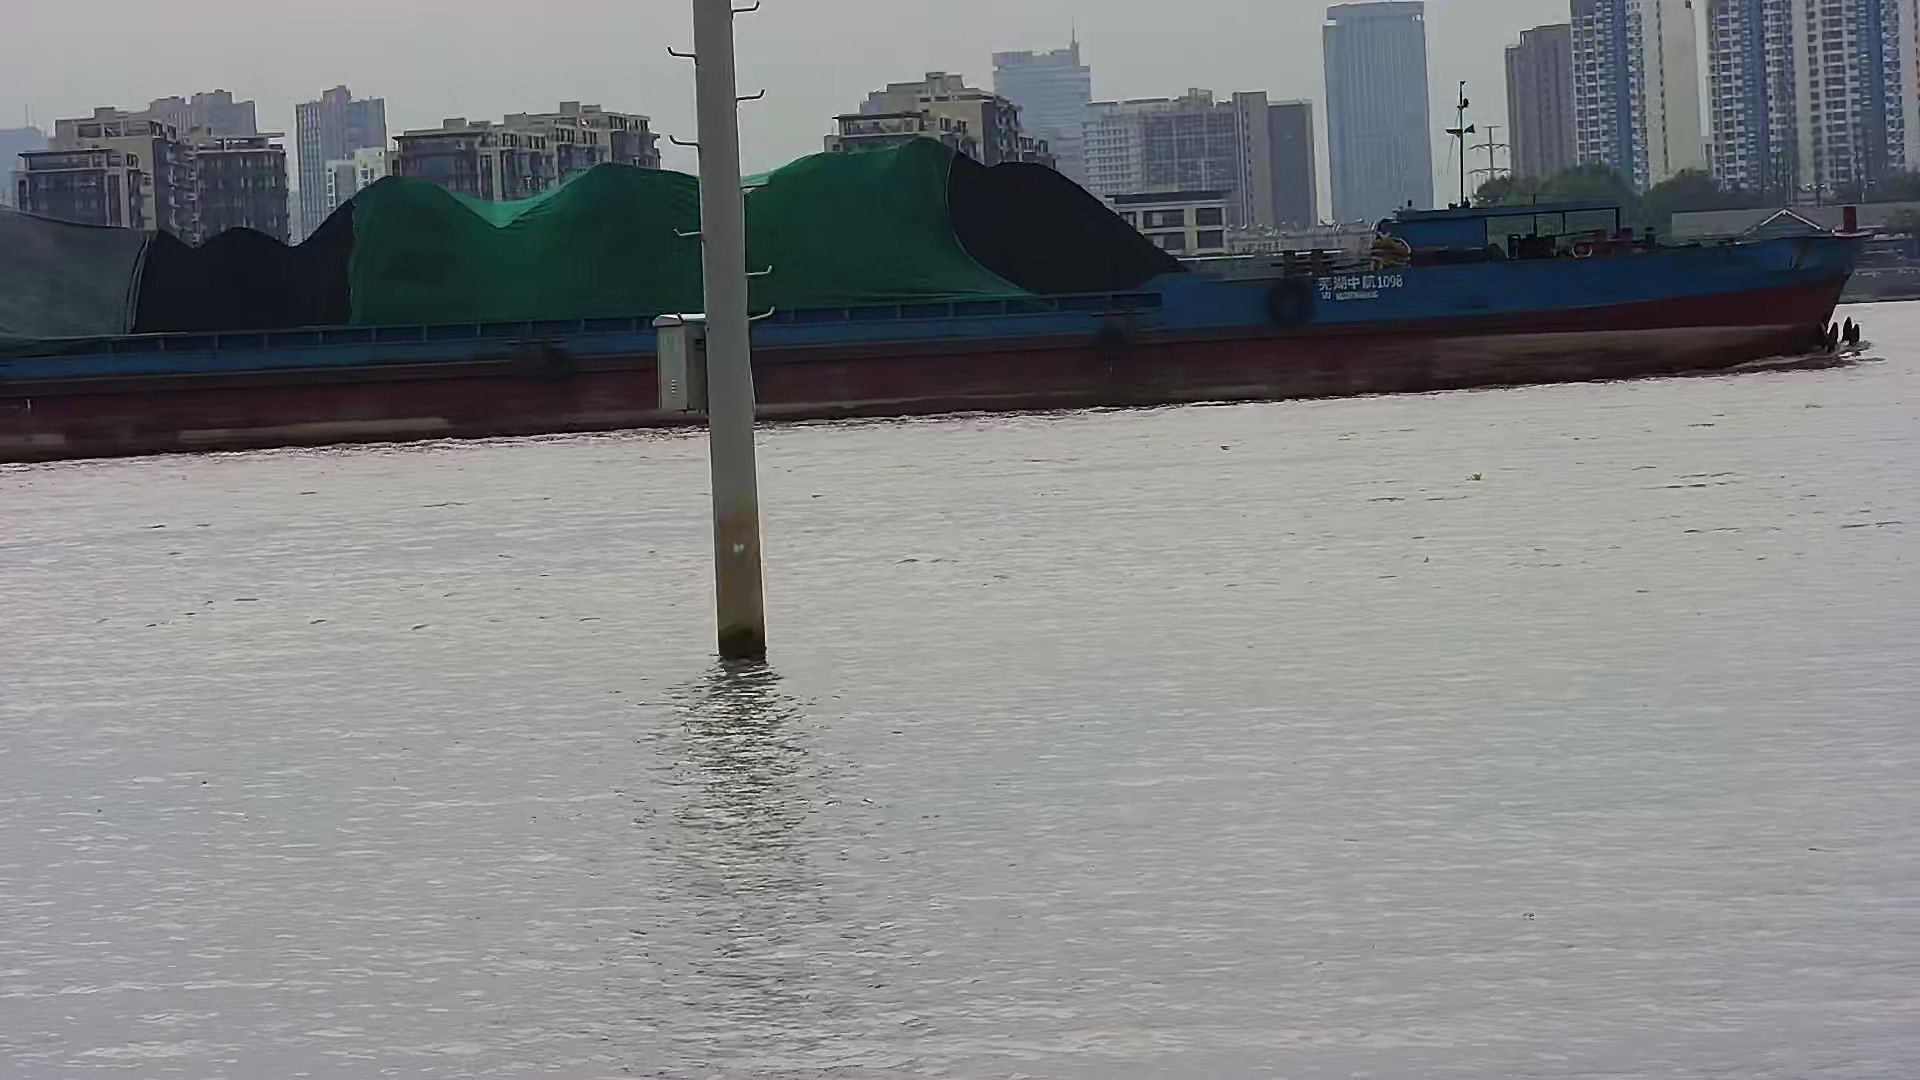mast: (604, 1, 822, 690)
ship: (1, 144, 1876, 465)
